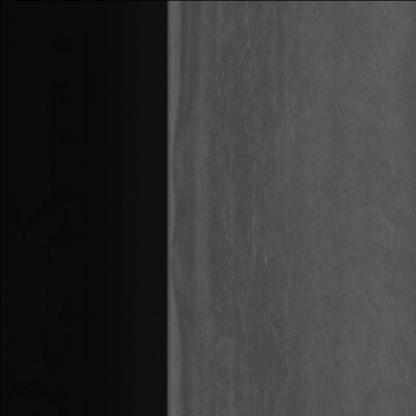silk_spot: (231, 98, 315, 269)
